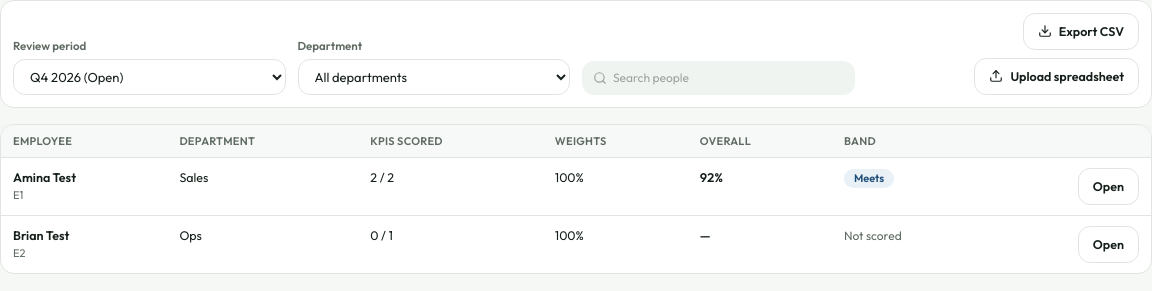
Scenario: Scorecards › filters by department
Expected: the text "Amina Test" is shown, [13,169,76,185]
Select "Ops" in the dropdown labelled "Department": (434, 76) [298,58,570,94]
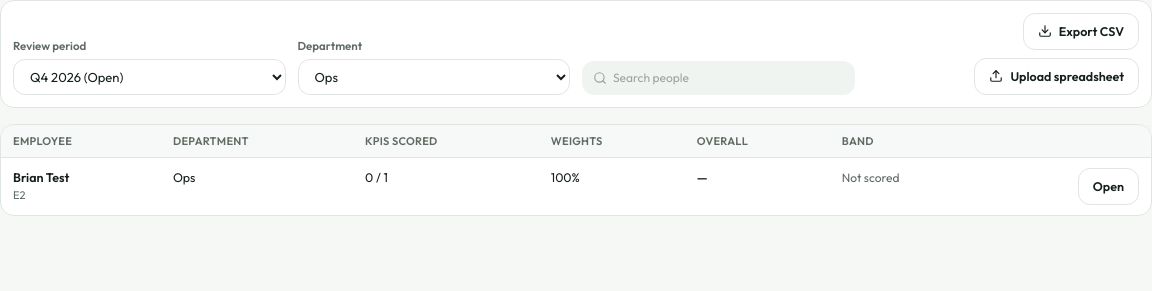
Expected: the text "Brian Test" is shown, [13,169,69,185]
Result: the text "Amina Test" is gone
